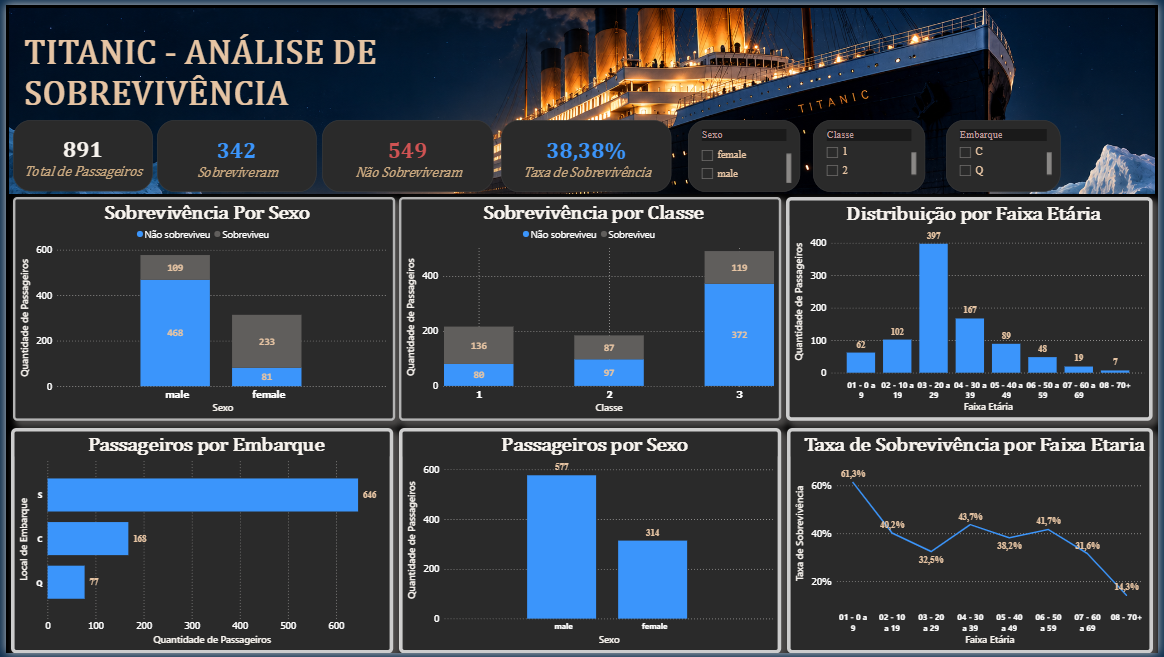

The page's visual inventory and layout, read from the dashboard file:
{"tool":"powerbi","page":{"name":"Página 1","canvas":[1920,1080],"ordinal":0},"visuals":[{"type":"image","box":[0,0,1920,320],"z":0},{"type":"card","fields":{"Values":["CountNonNull(02_Dados_Limpos.PassengerId)"]},"box":[11.4,191.4,232.9,118.6],"z":1000},{"type":"card","fields":{"Values":["CountNonNull(02_Dados_Limpos.PassengerId)"]},"box":[251.4,191.4,265.7,120],"z":2000},{"type":"card","fields":{"Values":["CountNonNull(02_Dados_Limpos.PassengerId)"]},"box":[527.1,191.4,285.7,120],"z":3000},{"type":"card","fields":{"Values":["02_Dados_Limpos.Taxa de Sobrevivência"]},"box":[824.3,191.4,284.3,120],"z":4000},{"type":"columnChart","title":"Passageiros por Sexo","fields":{"Category":["02_Dados_Limpos.Sex"],"Y":["CountNonNull(02_Dados_Limpos.PassengerId)"]},"box":[655.7,704.3,637.1,375.7],"z":5000},{"type":"columnChart","title":"Sobrevivência Por Sexo","fields":{"Category":["02_Dados_Limpos.Sex"],"Y":["CountNonNull(02_Dados_Limpos.PassengerId)"],"Series":["02_Dados_Limpos.Status Sobrevivência"]},"box":[11.7,320,636.7,373.3],"z":6000},{"type":"columnChart","title":"Sobrevivência por Classe","fields":{"Category":["02_Dados_Limpos.Pclass"],"Y":["CountNonNull(02_Dados_Limpos.PassengerId)"],"Series":["02_Dados_Limpos.Status Sobrevivência"]},"box":[655.7,320,637.1,372.9],"z":7000},{"type":"clusteredBarChart","title":"Passageiros por Embarque","fields":{"Category":["02_Dados_Limpos.Embarked"],"Y":["CountNonNull(02_Dados_Limpos.PassengerId)"]},"box":[8.6,704.3,637.1,375.7],"z":8000},{"type":"columnChart","title":"Distribuição por Faixa Etária","fields":{"Category":["02_Dados_Limpos.Faixa Etária"],"Y":["CountNonNull(02_Dados_Limpos.PassengerId)"]},"box":[1300.2,320,611.4,372.9],"z":9000},{"type":"lineChart","title":"Taxa de Sobrevivência por Faixa Etaria","fields":{"Y":["02_Dados_Limpos.Taxa de Sobrevivência"],"Category":["02_Dados_Limpos.Faixa Etária"]},"box":[1301.4,704.3,610,375.7],"z":10000},{"type":"slicer","fields":{"Values":["02_Dados_Limpos.Sex"]},"box":[1137.1,191.4,187.1,120],"z":11000},{"type":"slicer","fields":{"Values":["02_Dados_Limpos.Pclass"]},"box":[1345.7,191.4,187.1,120],"z":12000},{"type":"slicer","fields":{"Values":["02_Dados_Limpos.Embarked"]},"box":[1567.1,191.4,191.4,120],"z":13000},{"type":"textbox","box":[25.7,41.4,737.1,150],"z":14000}]}

Visuals, with their boxes in screenshot pixels (x1, y1, x2, y2), scaled from the page's 1920x1080 canvas onto the 1164x657 screenshot:
image: select_region(0, 0, 1163, 195)
card - CountNonNull(02_Dados_Limpos.PassengerId): select_region(7, 116, 148, 189)
card - CountNonNull(02_Dados_Limpos.PassengerId): select_region(152, 116, 313, 189)
card - CountNonNull(02_Dados_Limpos.PassengerId): select_region(320, 116, 493, 189)
card - 02_Dados_Limpos.Taxa de Sobrevivência: select_region(500, 116, 672, 189)
"Passageiros por Sexo" columnChart: select_region(398, 428, 784, 656)
"Sobrevivência Por Sexo" columnChart: select_region(7, 195, 393, 422)
"Sobrevivência por Classe" columnChart: select_region(398, 195, 784, 422)
"Passageiros por Embarque" clusteredBarChart: select_region(5, 428, 391, 656)
"Distribuição por Faixa Etária" columnChart: select_region(788, 195, 1159, 422)
"Taxa de Sobrevivência por Faixa Etaria" lineChart: select_region(789, 428, 1159, 656)
slicer - 02_Dados_Limpos.Sex: select_region(689, 116, 803, 189)
slicer - 02_Dados_Limpos.Pclass: select_region(816, 116, 929, 189)
slicer - 02_Dados_Limpos.Embarked: select_region(950, 116, 1066, 189)
textbox: select_region(16, 25, 462, 116)
